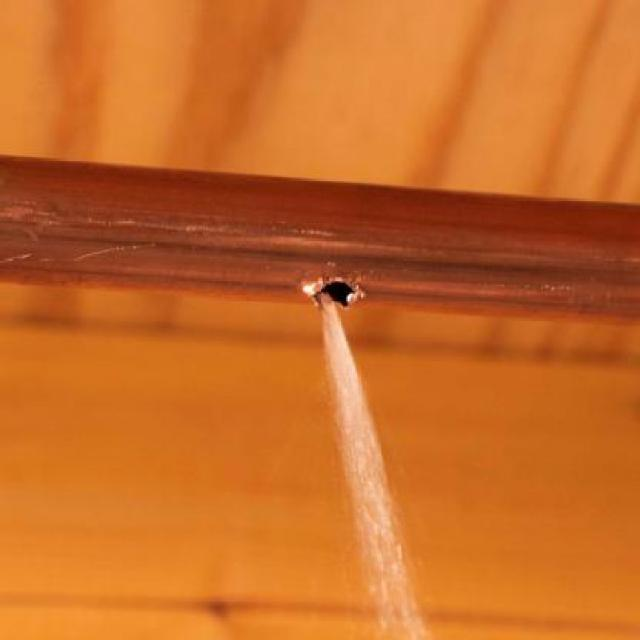leak: (317, 282, 445, 640)
